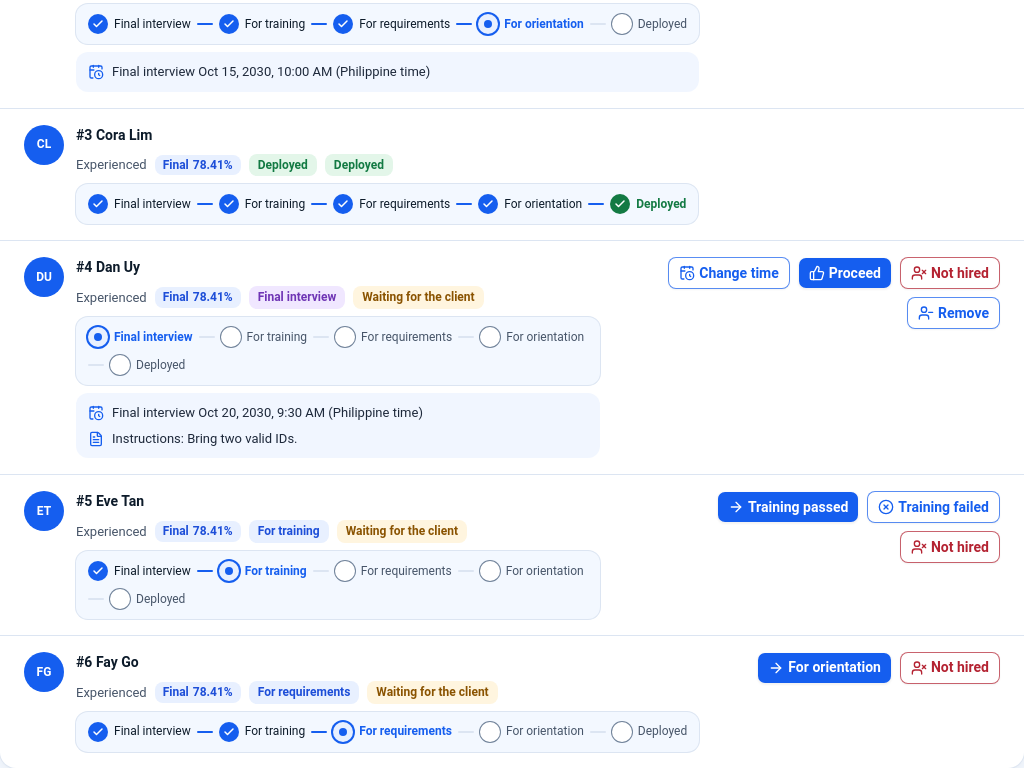
Test: Outcomes tab (FR-END-07/08/09; decision 37C) › decision 37C: a 409 from advance (moved meanwhile) is shown in the dialog
This screenshot has width=1024, height=768.
(page scrolled)
Click the button with aria-label "Eve Tan: Training passed" at point(788, 507), box [717,491,859,523]
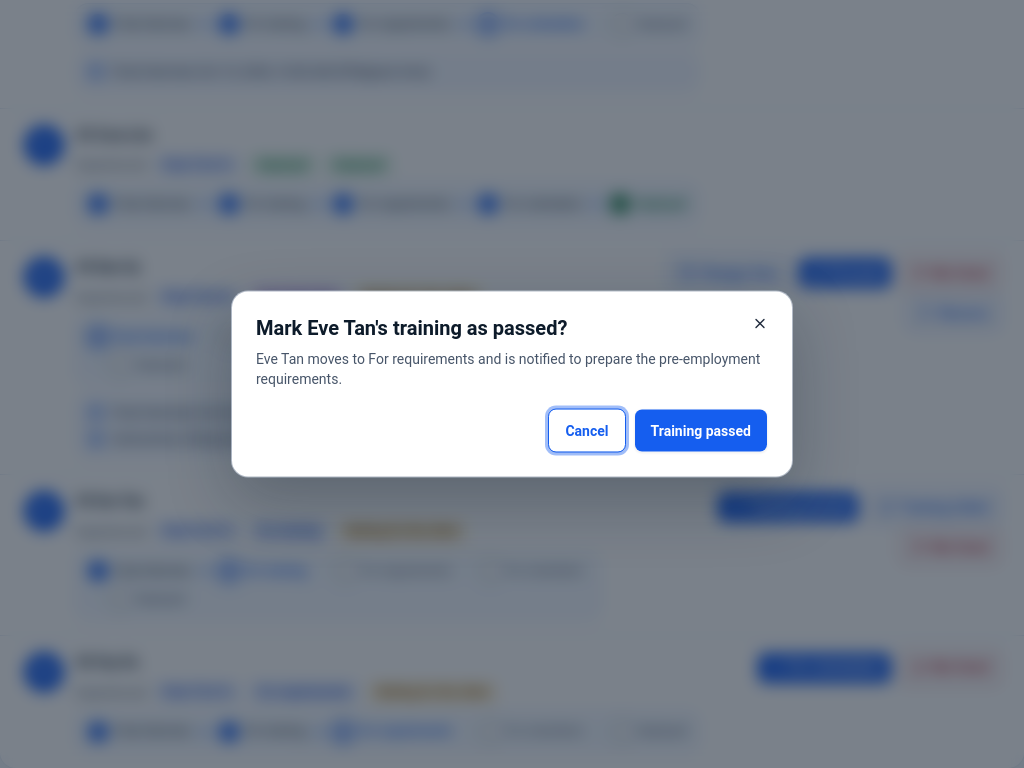
Click the button "Training passed" at point(701, 430), box [634,408,768,452]
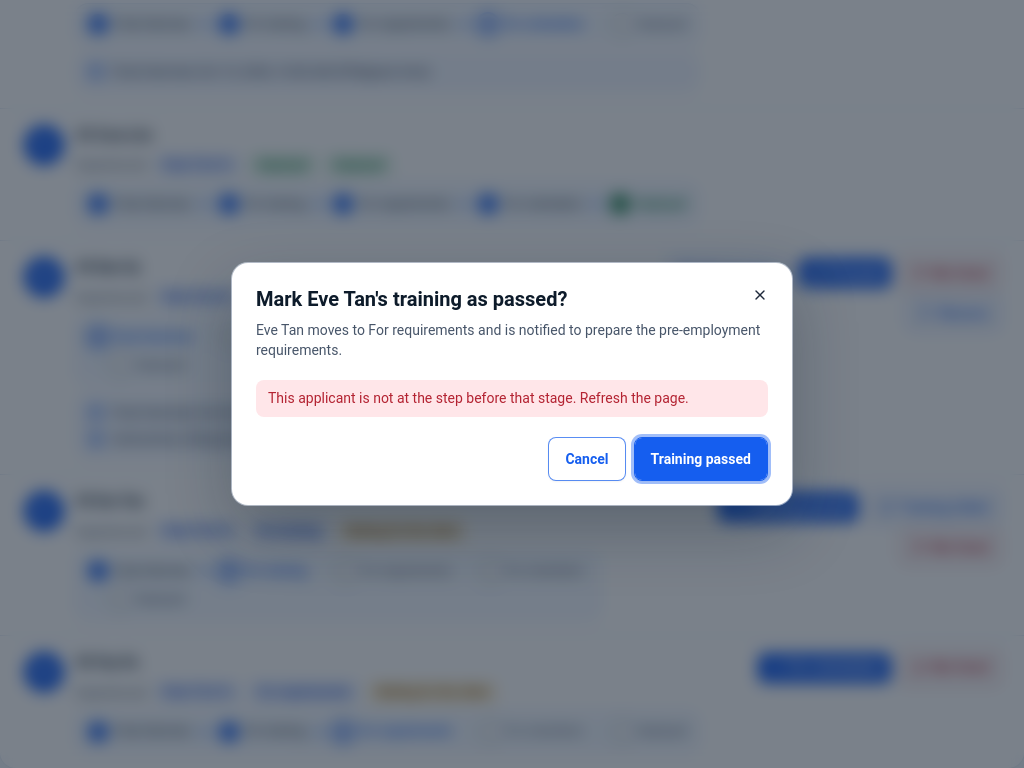
Result: the message shows "This applicant is not at the step before that stage." at [268,390,689,406]
